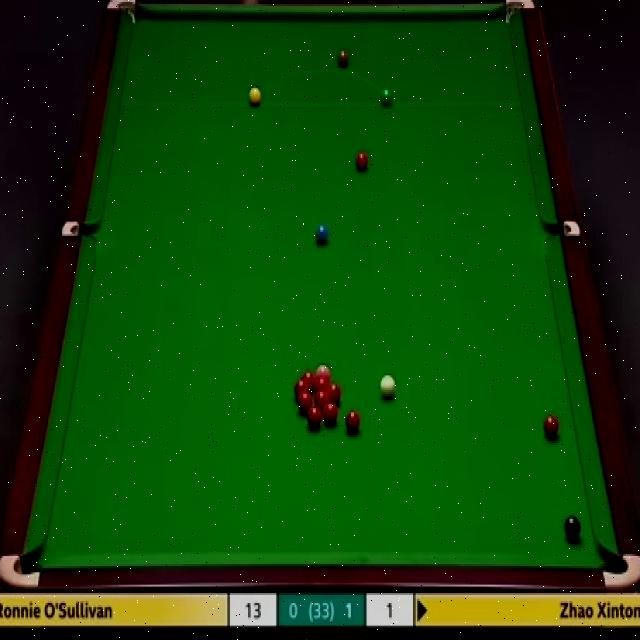black-ball: (563, 514, 581, 540)
blue-ball: (314, 222, 329, 245)
brown-ball: (338, 50, 350, 70)
green-ball: (379, 87, 395, 109)
pink-ball: (316, 364, 330, 376)
red-ball: (321, 401, 337, 425), (354, 151, 370, 172), (345, 412, 360, 434), (544, 415, 559, 436), (307, 401, 321, 423), (301, 369, 316, 389), (327, 383, 341, 403), (298, 394, 313, 412), (294, 380, 307, 399), (315, 390, 329, 405), (316, 374, 328, 391)
white-ball: (379, 374, 398, 399)
yellow-ball: (248, 86, 262, 106)
